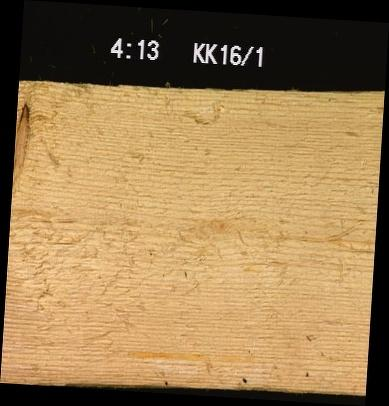split: (44, 240, 74, 245)
